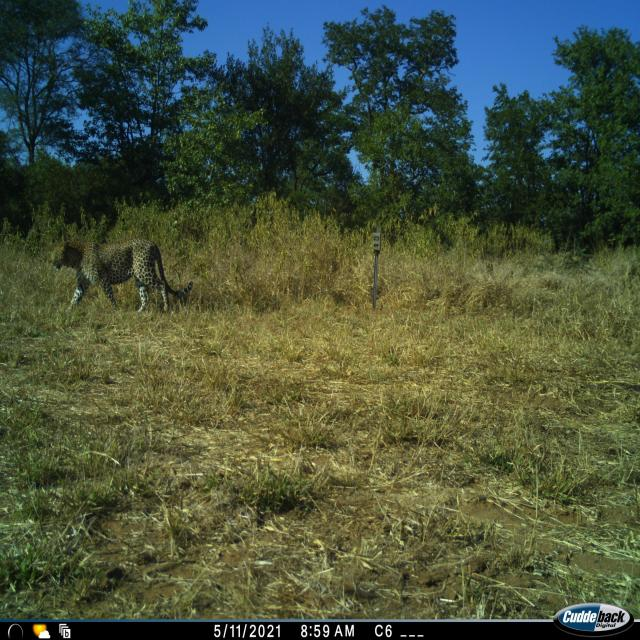Leopard: (66, 229, 186, 317)
